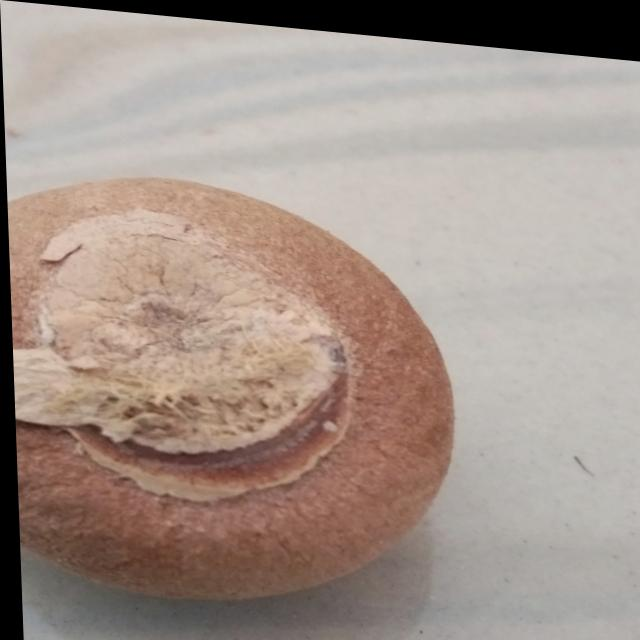good: (4, 148, 475, 635)
